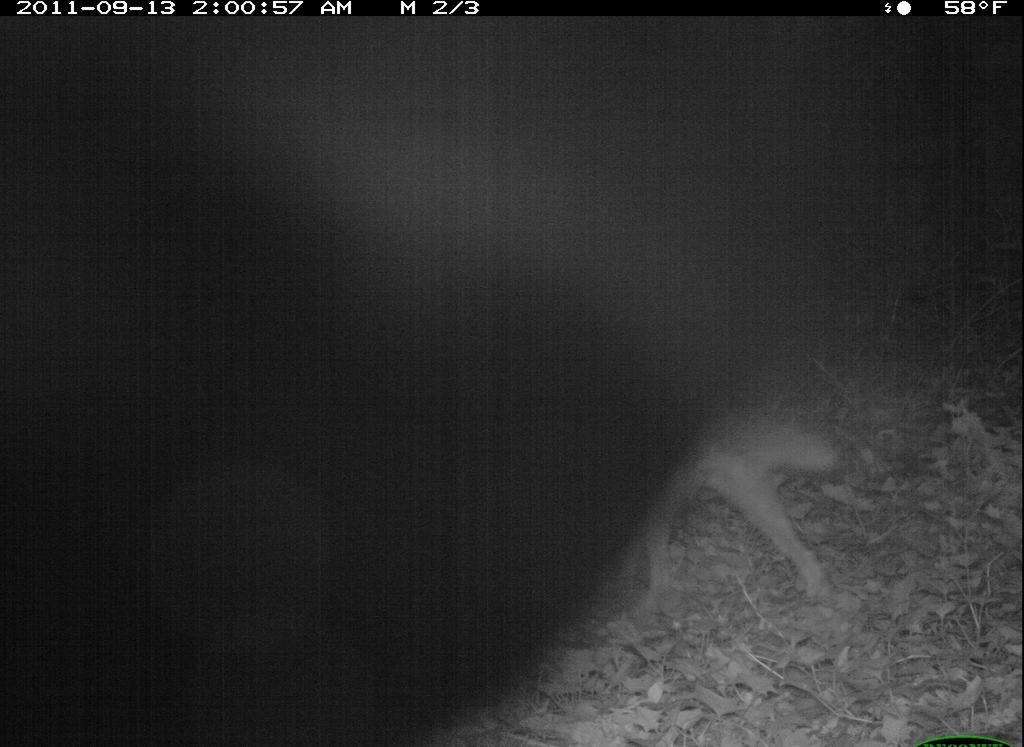coyote: (597, 400, 852, 609)
